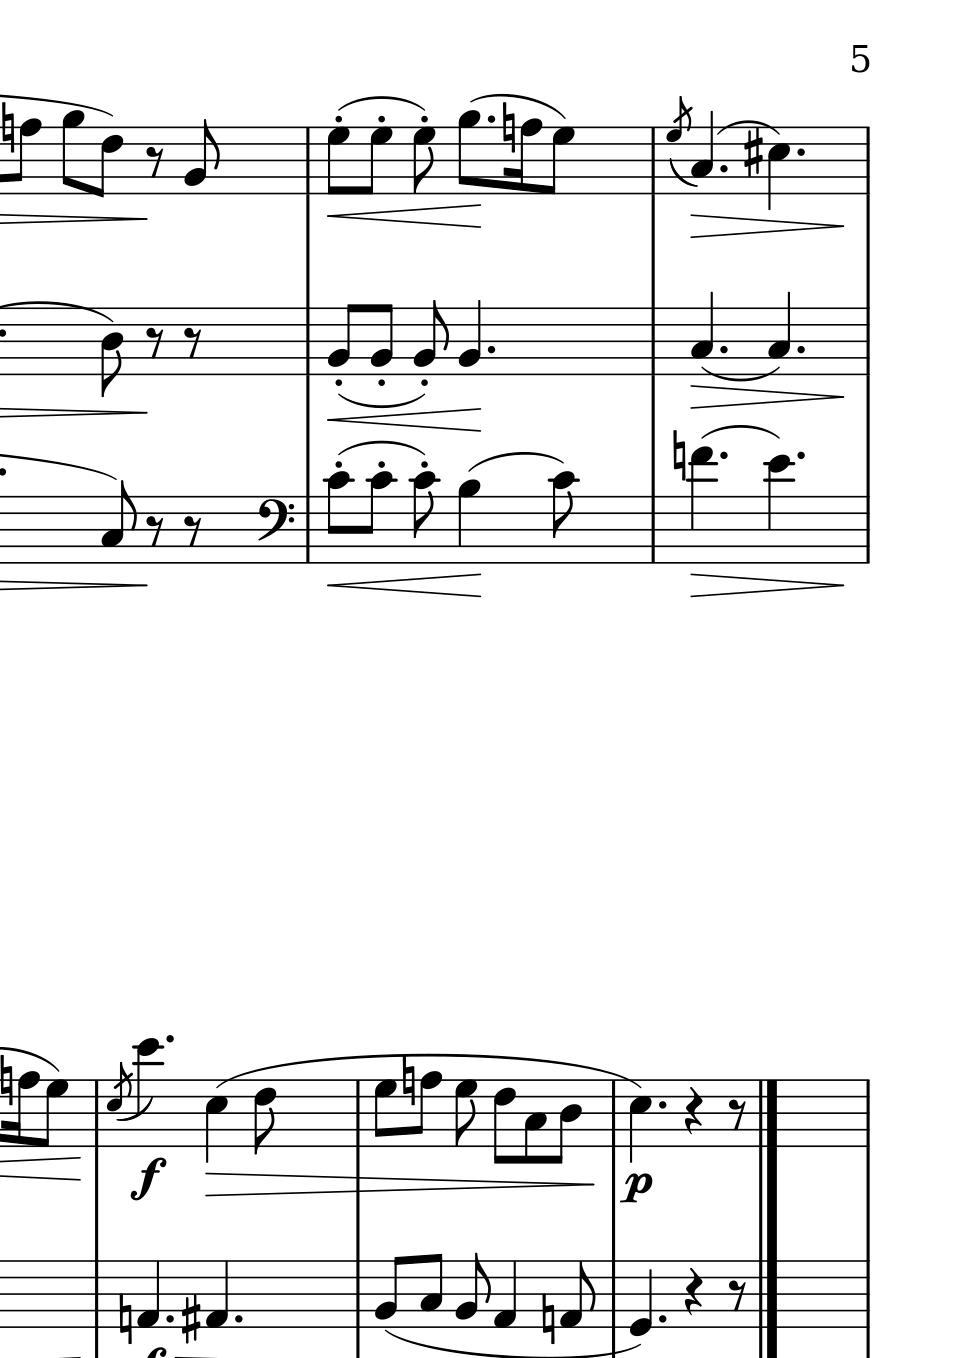16_8: (506, 117, 540, 196), (6, 1069, 39, 1149)
4_0: (626, 1259, 654, 1338)
4_1: (136, 1258, 162, 1329), (494, 1258, 518, 1331), (204, 1258, 230, 1328)
4_12: (764, 452, 794, 566), (134, 1036, 162, 1148)
4_13: (688, 446, 715, 566)
4_2: (457, 298, 483, 378)
4_3: (689, 290, 715, 378), (766, 289, 792, 375), (690, 111, 714, 197)
4_5: (766, 125, 792, 211), (626, 1079, 652, 1164), (203, 1079, 228, 1166)
4_9: (455, 476, 482, 566)
5: (848, 41, 872, 75)
8_1: (559, 1259, 597, 1330)
8_10: (359, 469, 396, 566), (409, 470, 441, 565), (323, 470, 353, 565), (548, 470, 577, 566)
8_2: (183, 118, 220, 195), (411, 298, 448, 376), (454, 1251, 490, 1328), (324, 301, 357, 377), (372, 1254, 404, 1329), (368, 301, 394, 377)
8_3: (99, 478, 138, 566), (522, 1079, 546, 1165), (419, 1251, 443, 1330)
8_4: (552, 1079, 582, 1165), (98, 305, 124, 398)
8_6: (92, 125, 124, 199), (492, 1079, 516, 1166), (251, 1079, 277, 1156)
8_7: (361, 126, 392, 197), (542, 125, 574, 196), (36, 1079, 68, 1150), (325, 126, 350, 197), (411, 126, 436, 195), (372, 1079, 396, 1148), (453, 1079, 477, 1147)
8_8: (11, 116, 41, 197), (411, 1070, 441, 1148)
8_9: (455, 108, 481, 197), (59, 109, 84, 196)
Acciaccature: (666, 97, 692, 197), (108, 1063, 133, 1148)
Crescendo_hairpin: (329, 203, 479, 231), (326, 573, 484, 596), (327, 407, 481, 430)
Diminuendo_hairpin: (205, 1172, 592, 1199), (687, 570, 845, 598), (691, 213, 843, 239), (691, 383, 839, 408)
Fclef: (254, 494, 294, 566)
Final_barline: (752, 1079, 781, 1147), (752, 1259, 781, 1327)
Natural: (115, 1292, 135, 1346), (499, 100, 516, 155), (539, 1292, 556, 1346), (399, 1054, 416, 1107), (671, 430, 686, 484), (1, 101, 14, 158), (1, 1054, 14, 1110)
Rests4: (681, 1266, 704, 1319), (683, 1085, 704, 1136)
Rests8: (725, 1278, 747, 1314), (179, 513, 202, 548), (143, 145, 165, 180), (144, 513, 166, 548), (144, 324, 165, 360), (726, 1097, 747, 1131), (181, 325, 202, 358)
Sharp: (179, 1293, 202, 1346), (741, 127, 763, 179)
Single_barline: (858, 1080, 877, 1147), (644, 308, 662, 375), (857, 308, 875, 375), (858, 1260, 876, 1328), (299, 307, 316, 376), (605, 1260, 622, 1326), (299, 127, 316, 194), (645, 496, 662, 563), (858, 128, 875, 194), (858, 497, 875, 563), (606, 1083, 622, 1147), (350, 1260, 366, 1328), (645, 128, 661, 194), (89, 1261, 105, 1326), (300, 495, 315, 563), (351, 1081, 365, 1146), (89, 1082, 103, 1147)
Slur: (210, 1051, 635, 1086), (470, 92, 564, 121), (470, 450, 561, 473), (337, 391, 427, 409), (336, 440, 426, 457), (337, 95, 426, 112), (699, 364, 782, 381), (701, 424, 779, 440), (717, 117, 779, 135)
dot: (716, 342, 730, 357), (231, 1311, 245, 1326), (794, 343, 807, 358), (794, 449, 807, 464), (794, 145, 807, 160), (484, 342, 498, 356), (655, 1312, 669, 1326), (655, 1098, 668, 1112), (716, 162, 730, 175), (718, 448, 729, 463), (163, 1032, 175, 1046), (163, 1312, 175, 1325), (485, 113, 496, 126)
f: (129, 1156, 168, 1202)
p: (621, 1170, 655, 1206)
